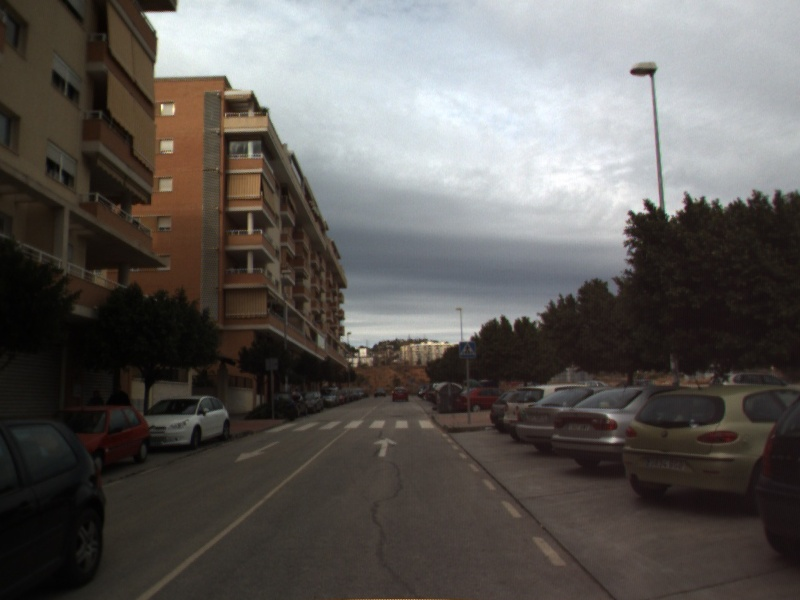STRAIGHT: (371, 436, 399, 458)
